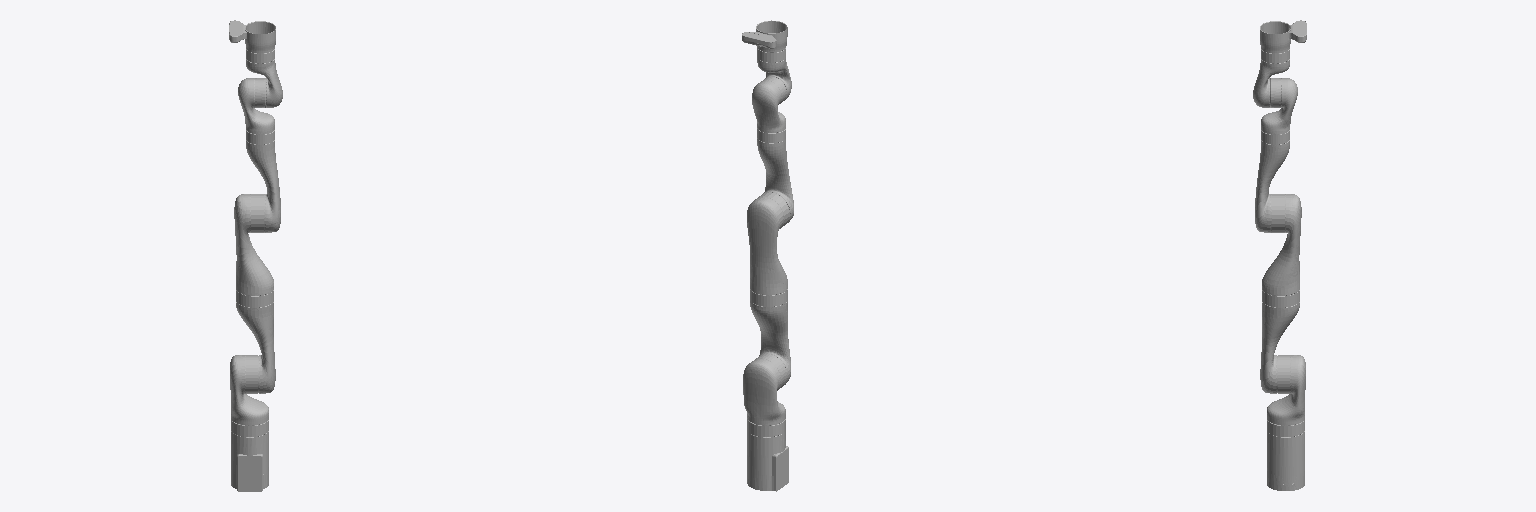
The robot description file, URDF, robot "PANDA":
<?xml version='1.0' encoding='utf-8'?>
<robot name="PANDA" version="1.0">
  <link name="link0">
    <inertial>
      <origin xyz="-0.000648 -0.000166 0.084487" rpy="0 0 0" />
      <mass value="1.697" />
      <inertia ixx="0.004622" ixy="9E-06" ixz="6E-05" iyy="0.004495" iyz="9E-06" izz="0.002079" />
    </inertial>
    <visual>
      <origin xyz="0 0 0" rpy="0 0 0" />
      <geometry>
        <mesh filename="../../../urdf_models/mmp_panda/meshes/base_link.obj" />
      </geometry>
      <material name="">
        <color rgba="0.75294 0.75294 0.75294 1" />
      </material>
    </visual>
    <!-- <collision>
      <origin xyz="0 0 0" rpy="0 0 0" />
      <geometry>
        <mesh filename="../../../urdf_models/mmp_panda/meshes/base_link.obj" />
      </geometry>
    </collision> -->
  </link>
  <link name="link1">
    <inertial>
      <origin xyz="-2.3E-05 -0.010364 -0.07336" rpy="0 0 0" />
      <mass value="1.3773" />
      <inertia ixx="0.00457" ixy="1E-06" ixz="2E-06" iyy="0.004831" iyz="0.000448" izz="0.001409" />
    </inertial>
    <visual>
      <origin xyz="0 0 0" rpy="0 0 0" />
      <geometry>
        <mesh filename="../../../urdf_models/mmp_panda/meshes/Shoulder_Link.obj" />
      </geometry>
      <material name="">
        <color rgba="0.75294 0.75294 0.75294 1" />
      </material>
    </visual>
    <!-- <collision>
      <origin xyz="0 0 0" rpy="0 0 0" />
      <geometry>
        <mesh filename="../../../urdf_models/mmp_panda/meshes/Shoulder_Link.obj" />
      </geometry>
    </collision> -->
  </link>
  <link name="link2">
    <inertial>
      <origin xyz="-4.4E-05 -0.09958 -0.013278" rpy="0 0 0" />
      <mass value="1.1636" />
      <inertia ixx="0.011088" ixy="5E-06" ixz="0" iyy="0.001072" iyz="-0.000691" izz="0.011255" />
    </inertial>
    <visual>
      <origin xyz="0 0 0" rpy="0 0 0" />
      <geometry>
        <mesh filename="../../../urdf_models/mmp_panda/meshes/HalfArm1_Link.obj" />
      </geometry>
      <material name="">
        <color rgba="0.75294 0.75294 0.75294 1" />
      </material>
    </visual>
    <!-- <collision>
      <origin xyz="0 0 0" rpy="0 0 0" />
      <geometry>
        <mesh filename="../../../urdf_models/mmp_panda/meshes/HalfArm1_Link.obj" />
      </geometry>
    </collision> -->
  </link>
  <link name="link3">
    <inertial>
      <origin xyz="-4.4E-05 -0.006641 -0.117892" rpy="0 0 0" />
      <mass value="1.1636" />
      <inertia ixx="0.010932" ixy="0" ixz="-7E-06" iyy="0.011127" iyz="0.000606" izz="0.001043" />
    </inertial>
    <visual>
      <origin xyz="0 0 0" rpy="0 0 0" />
      <geometry>
        <mesh filename="../../../urdf_models/mmp_panda/meshes/HalfArm2_Link.obj" />
      </geometry>
      <material name="">
        <color rgba="0.75294 0.75294 0.75294 1" />
      </material>
    </visual>
    <!-- <collision>
      <origin xyz="0 0 0" rpy="0 0 0" />
      <geometry>
        <mesh filename="../../../urdf_models/mmp_panda/meshes/HalfArm2_Link.obj" />
      </geometry>
    </collision> -->
  </link>
  <link name="link4">
    <inertial>
      <origin xyz="-1.8E-05 -0.075478 -0.015006" rpy="0 0 0" />
      <mass value="0.9302" />
      <inertia ixx="0.008147" ixy="-1E-06" ixz="0" iyy="0.000631" iyz="-0.0005" izz="0.008316" />
    </inertial>
    <visual>
      <origin xyz="0 0 0" rpy="0 0 0" />
      <geometry>
        <mesh filename="../../../urdf_models/mmp_panda/meshes/ForeArm_Link.obj" />
      </geometry>
      <material name="">
        <color rgba="0.75294 0.75294 0.75294 1" />
      </material>
    </visual>
    <!-- <collision>
      <origin xyz="0 0 0" rpy="0 0 0" />
      <geometry>
        <mesh filename="../../../urdf_models/mmp_panda/meshes/ForeArm_Link.obj" />
      </geometry>
    </collision> -->
  </link>
  <link name="link5">
    <inertial>
      <origin xyz="1E-06 -0.009432 -0.063883" rpy="0 0 0" />
      <mass value="0.6781" />
      <inertia ixx="0.001596" ixy="0" ixz="0" iyy="0.001607" iyz="0.000256" izz="0.000399" />
    </inertial>
    <visual>
      <origin xyz="0 0 0" rpy="0 0 0" />
      <geometry>
        <mesh filename="../../../urdf_models/mmp_panda/meshes/SphericalWrist1_Link.obj" />
      </geometry>
      <material name="">
        <color rgba="0.75294 0.75294 0.75294 1" />
      </material>
    </visual>
    <!-- <collision>
      <origin xyz="0 0 0" rpy="0 0 0" />
      <geometry>
        <mesh filename="../../../urdf_models/mmp_panda/meshes/SphericalWrist1_Link.obj" />
      </geometry>
    </collision> -->
  </link>
  <link name="link6">
    <inertial>
      <origin xyz="1E-06 -0.045483 -0.00965" rpy="0 0 0" />
      <mass value="0.6781" />
      <inertia ixx="0.001641" ixy="0" ixz="0" iyy="0.00041" iyz="-0.000278" izz="0.001641" />
    </inertial>
    <visual>
      <origin xyz="0 0 0" rpy="0 0 0" />
      <geometry>
        <mesh filename="../../../urdf_models/mmp_panda/meshes/SphericalWrist2_Link.obj" />
      </geometry>
      <material name="">
        <color rgba="0.75294 0.75294 0.75294 1" />
      </material>
    </visual>
    <!-- <collision>
      <origin xyz="0 0 0" rpy="0 0 0" />
      <geometry>
        <mesh filename="../../../urdf_models/mmp_panda/meshes/SphericalWrist2_Link.obj" />
      </geometry>
    </collision> -->
  </link>
  <link name="link7">
    <inertial>
      <origin xyz="-0.000281 -0.011402 -0.029798" rpy="0 0 0" />
      <mass value="0.5006" />
      <inertia ixx="0.000587" ixy="3E-06" ixz="3E-06" iyy="0.000369" iyz="0.000118" izz="0.000609" />
    </inertial>
    <visual>
      <origin xyz="0 0 0" rpy="0 0 0" />
      <geometry>
        <mesh filename="../../../urdf_models/mmp_panda/meshes/Bracelet_Link.obj" />
      </geometry>
      <material name="">
        <color rgba="0.75294 0.75294 0.75294 1" />
      </material>
    </visual>
    <!-- <collision>
      <origin xyz="0 0 0" rpy="0 0 0" />
      <geometry>
        <mesh filename="../../../urdf_models/mmp_panda/meshes/Bracelet_Link.obj" />
      </geometry>
    </collision> -->
  </link>

  <joint name="Actuator1" type="revolute">
    <origin xyz="0 0 0.15643" rpy="3.1416 2.7629E-18 -4.9305E-36" />
    <parent link="link0" />
    <child link="link1" />
    <axis xyz="0 0 1" />
    <limit effort="39" lower="-2.8973" upper="2.8973" velocity="0.8727" />
  </joint>
  <joint name="Actuator2" type="revolute">
    <origin xyz="0 0.005375 -0.12838" rpy="1.5708 2.1343E-17 -1.1102E-16" />
    <parent link="link1" />
    <child link="link2" />
    <axis xyz="0 0 1" />
    <limit effort="39" lower="-2.41" upper="2.41" velocity="0.8727" />
  </joint>
  <joint name="Actuator3" type="revolute">
    <origin xyz="0 -0.21038 -0.006375" rpy="-1.5708 1.2326E-32 -2.9122E-16" />
    <parent link="link2" />
    <child link="link3" />
    <axis xyz="0 0 1" />
    <limit effort="39" lower="-2.8973" upper="2.8973" velocity="0.8727" />
  </joint>
  <joint name="Actuator4" type="revolute">
    <origin xyz="0 0.006375 -0.21038" rpy="1.5708 -6.6954E-17 -1.6653E-16" />
    <parent link="link3" />
    <child link="link4" />
    <axis xyz="0 0 1" />
    <limit lower="-2.66" upper="2.66" effort="39" velocity="0.8727" />
  </joint>
  <joint name="Actuator5" type="revolute">
    <origin xyz="0 -0.20843 -0.006375" rpy="-1.5708 2.2204E-16 -6.373E-17" />
    <parent link="link4" />
    <child link="link5" />
    <axis xyz="0 0 1" />
    <limit effort="9" lower="-2.8973" upper="2.8973" velocity="0.8727" />
  </joint>
  <joint name="Actuator6" type="revolute">
    <origin xyz="0 0.00017505 -0.10593" rpy="1.5708 9.2076E-28 -8.2157E-15" />
    <parent link="link5" />
    <child link="link6" />
    <axis xyz="0 0 1" />
    <limit lower="-2.23" upper="2.23" effort="9" velocity="0.8727" />
  </joint>
  <joint name="Actuator7" type="revolute">
    <origin xyz="0 -0.10593 -0.00017505" rpy="-1.5708 -5.5511E-17 9.6396E-17" />
    <parent link="link6" />
    <child link="link7" />
    <axis xyz="0 0 1" />
    <limit effort="9" lower="-2.8973" upper="2.8973" velocity="0.8727" />
  </joint>
</robot>

--- What the picture shows (computed from the rendered views, not written in the file) ---
The picture shows the robot from 3 angles, left to right: view 1: azimuth 90°, elevation 25°; view 2: azimuth 150°, elevation 25°; view 3: azimuth 270°, elevation 25°; orthographic projection.
Model PANDA with 8 links and 7 joints (7 revolute), rooted at link0, posed every joint at zero.
Visible links, largest first — view 1: link3, link0, link2, link1, link4, link5, link7, link6; view 2: link3, link0, link1, link2, link4, link5, link7, link6; view 3: link3, link0, link2, link1, link4, link5, link7, link6.
Boxes of the visible links, left/top/right/bottom form: link3: left=234, top=194, right=273, bottom=295; link0: left=231, top=420, right=268, bottom=491; link2: left=236, top=290, right=275, bottom=393; link1: left=230, top=355, right=268, bottom=425; link4: left=246, top=130, right=280, bottom=232; link5: left=238, top=78, right=274, bottom=134; link7: left=229, top=20, right=275, bottom=53; link6: left=246, top=49, right=282, bottom=107; link3: left=747, top=192, right=789, bottom=295; link0: left=747, top=418, right=788, bottom=491; link1: left=743, top=354, right=786, bottom=425; link2: left=750, top=289, right=790, bottom=384; link4: left=757, top=128, right=793, bottom=222; link5: left=752, top=76, right=786, bottom=132; link7: left=742, top=20, right=787, bottom=52; link6: left=757, top=48, right=791, bottom=100; link3: left=1262, top=194, right=1301, bottom=295; link0: left=1267, top=420, right=1304, bottom=490; link2: left=1260, top=290, right=1299, bottom=393; link1: left=1267, top=355, right=1305, bottom=425; link4: left=1255, top=130, right=1289, bottom=232; link5: left=1261, top=78, right=1297, bottom=134; link7: left=1260, top=20, right=1306, bottom=53; link6: left=1253, top=49, right=1289, bottom=107.
Bounding box of the posed robot: 0.0928 × 0.1278 × 1.19 m (x, y, z).
8 mesh visuals loaded from 8 distinct referenced files (8 OBJ).
